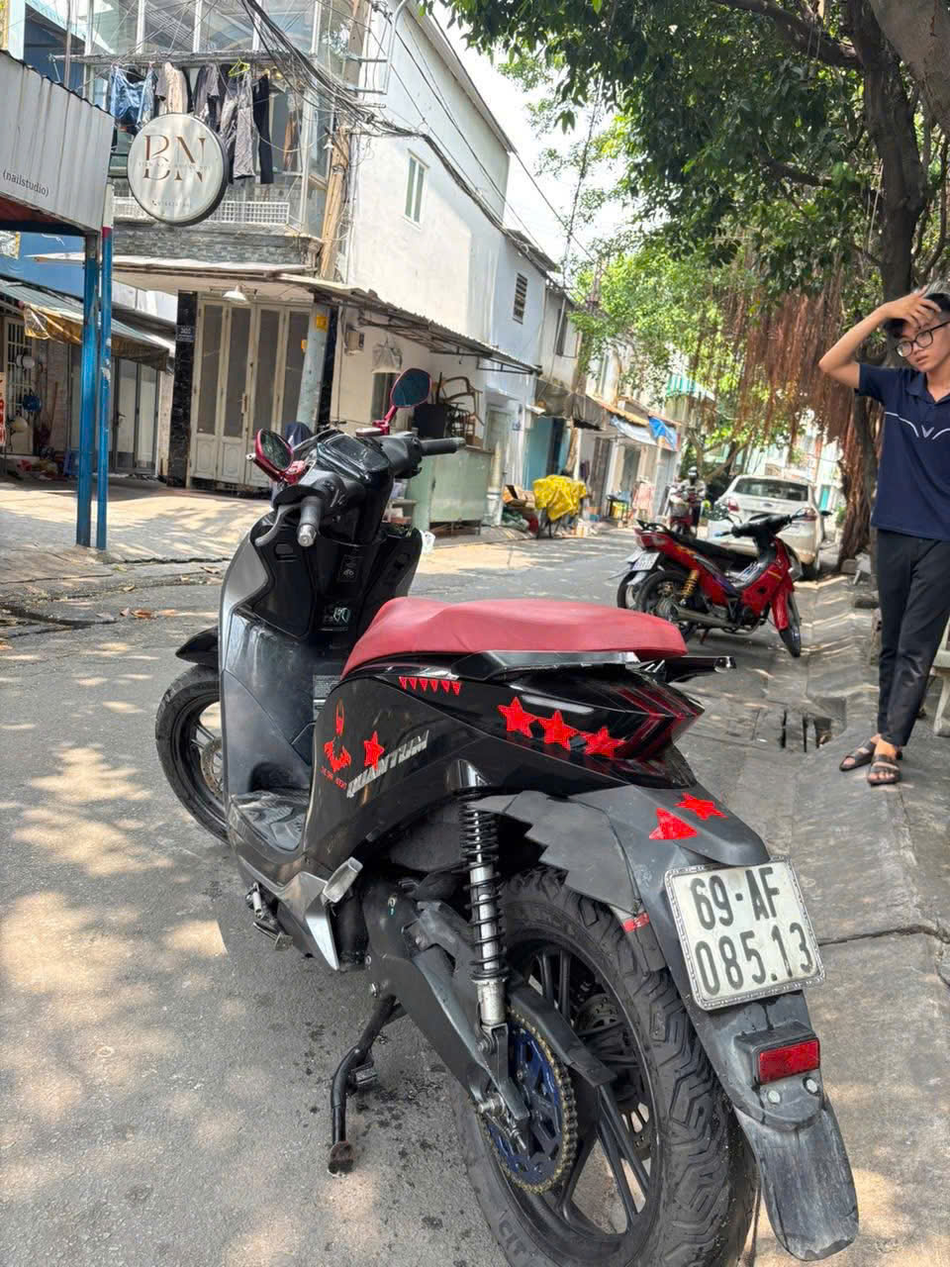Bien-so: (665, 865, 825, 1010)
